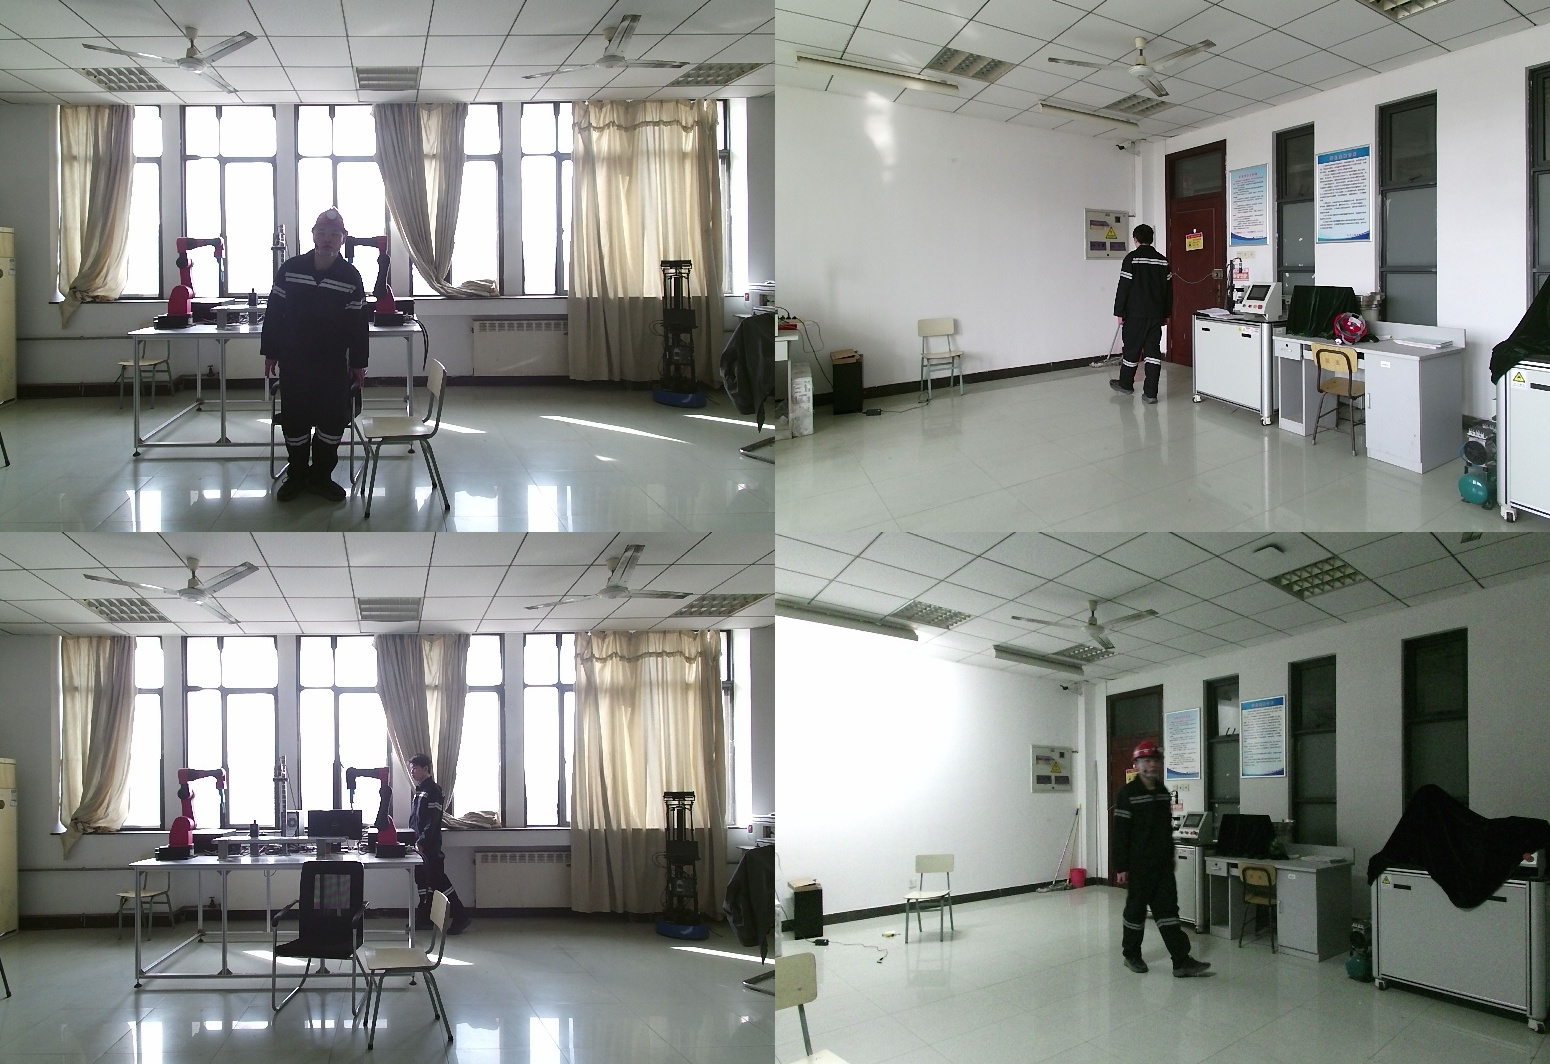person: (263, 208, 376, 501), (1108, 741, 1214, 977), (1111, 226, 1179, 410), (407, 752, 470, 939)
